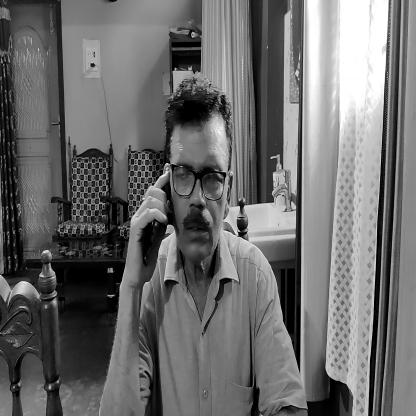Normal: (161, 79, 232, 270)
